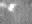person: (8, 3, 15, 10), (1, 2, 5, 6)
